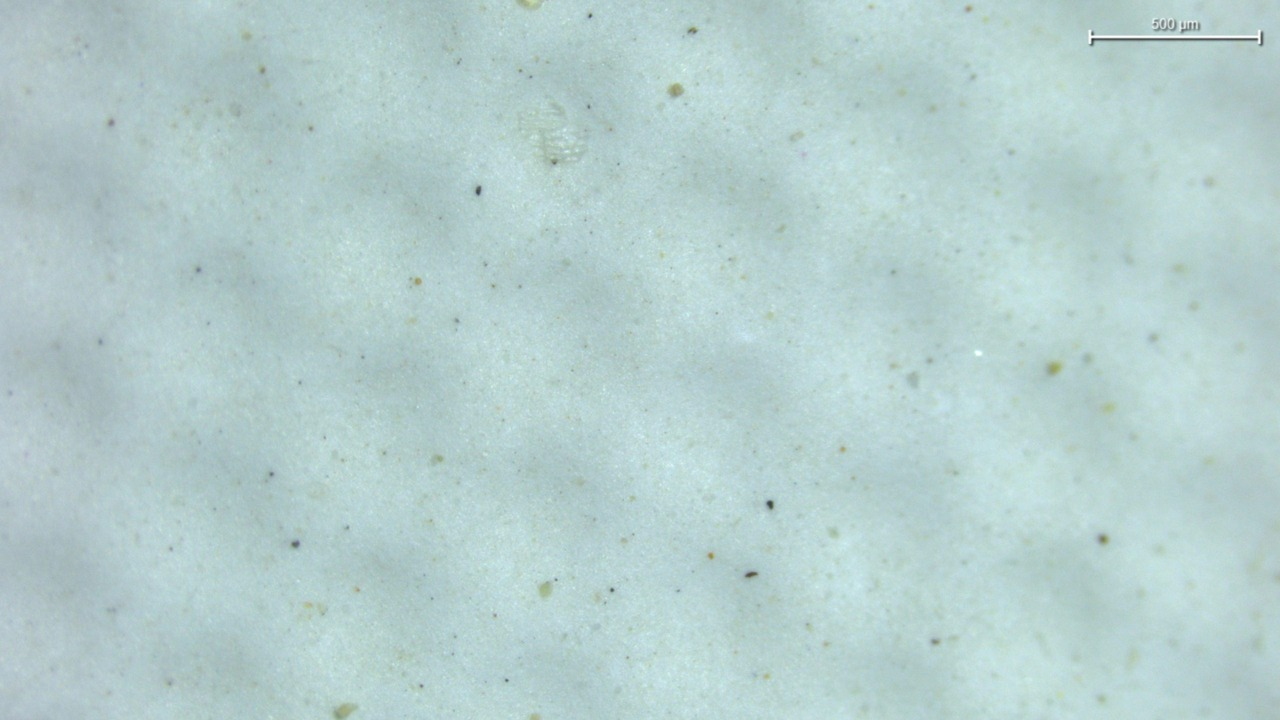microplastic_fragment: (519, 100, 585, 164)
